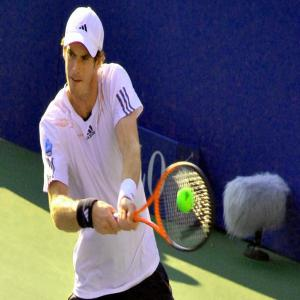TennisBall: (179, 188, 195, 214)
